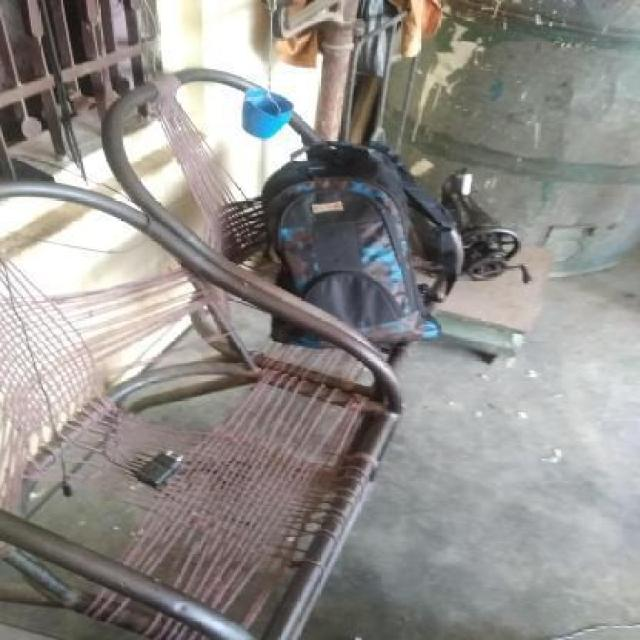backpack: (254, 132, 466, 354)
